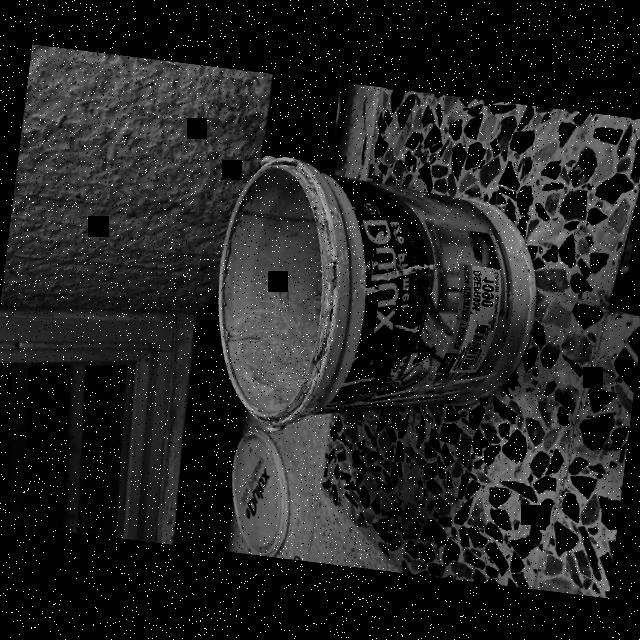paint_bucket: (200, 148, 549, 459)
